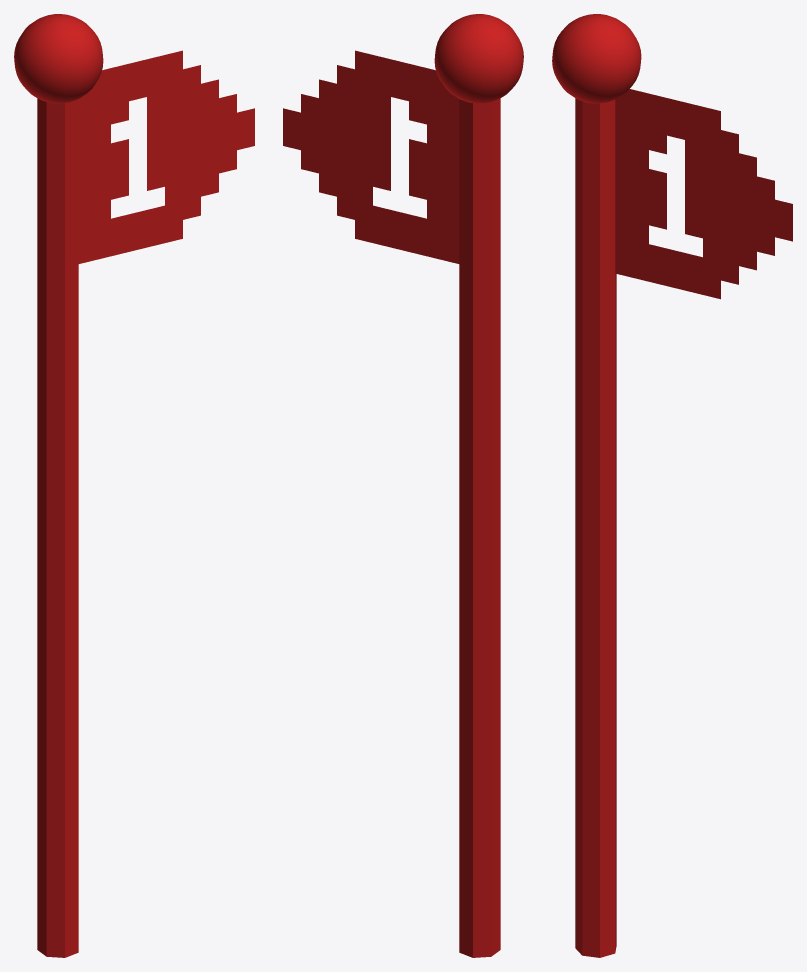
File: Flagpole.fbx
The picture shows the model from 3 angles, left to right: view 1: azimuth 30°, elevation 25°; view 2: azimuth 150°, elevation 25°; view 3: azimuth 330°, elevation 25°; orthographic projection.
Visible parts, largest first — view 1: pCylinder1, pPlane1, pSphere1; view 2: pCylinder1, pPlane1, pSphere1; view 3: pCylinder1, pPlane1, pSphere1.
Part boxes in pixels (bbox=[...]): pCylinder1: bbox=[37, 98, 78, 957]; pPlane1: bbox=[78, 50, 254, 263]; pSphere1: bbox=[14, 14, 103, 103]; pCylinder1: bbox=[459, 98, 500, 957]; pPlane1: bbox=[283, 50, 459, 263]; pSphere1: bbox=[434, 14, 523, 103]; pCylinder1: bbox=[575, 98, 616, 957]; pPlane1: bbox=[615, 89, 792, 299]; pSphere1: bbox=[552, 14, 641, 103].
Size of the model in its own units: 1.31 by 4.95 by 0.4326.
